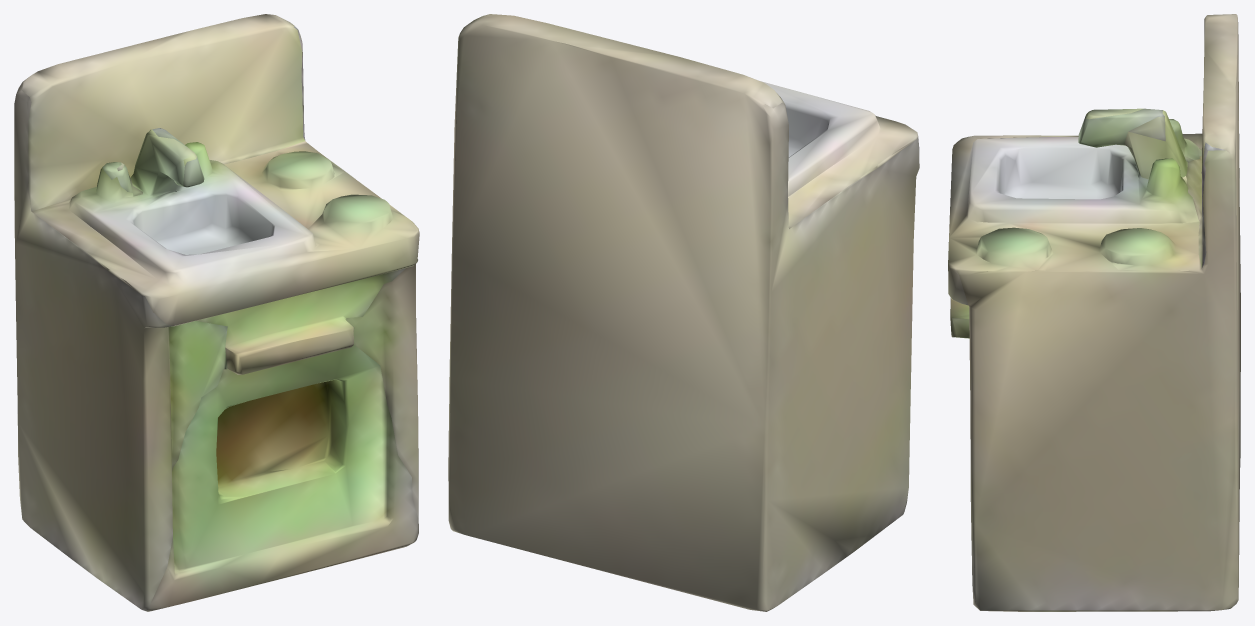
File: 3D_Dollhouse_Sink-medium.glb
The picture shows the model from 3 angles, left to right: view 1: azimuth 30°, elevation 25°; view 2: azimuth 150°, elevation 25°; view 3: azimuth 270°, elevation 25°; orthographic projection. The views are drawn at different scales.
Visible parts, largest first — view 1: 3D_Dollhouse_Sink; view 2: 3D_Dollhouse_Sink; view 3: 3D_Dollhouse_Sink.
Boxes of the visible parts, left/top/right/bottom form: 3D_Dollhouse_Sink: left=14, top=14, right=419, bottom=611; 3D_Dollhouse_Sink: left=448, top=14, right=919, bottom=611; 3D_Dollhouse_Sink: left=948, top=14, right=1240, bottom=611.
Bounding box in the file's own units: 0.0853 × 0.1307 × 0.0732.
1 material, 1 textured.
